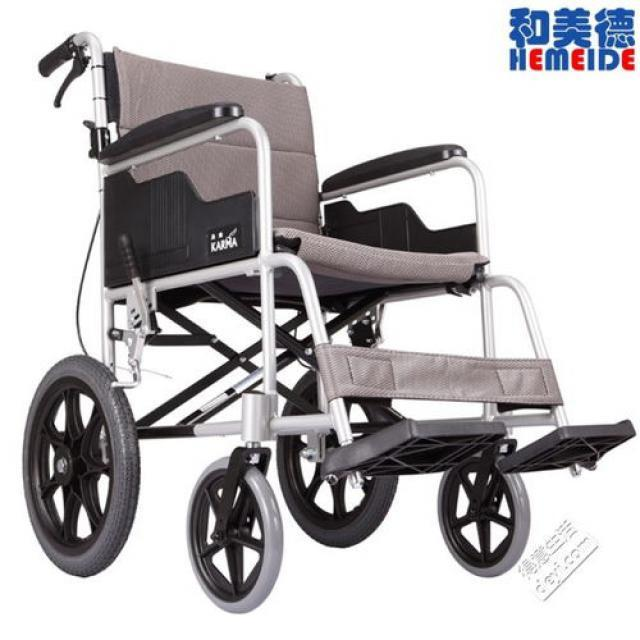wheelchair: (14, 28, 636, 608)
